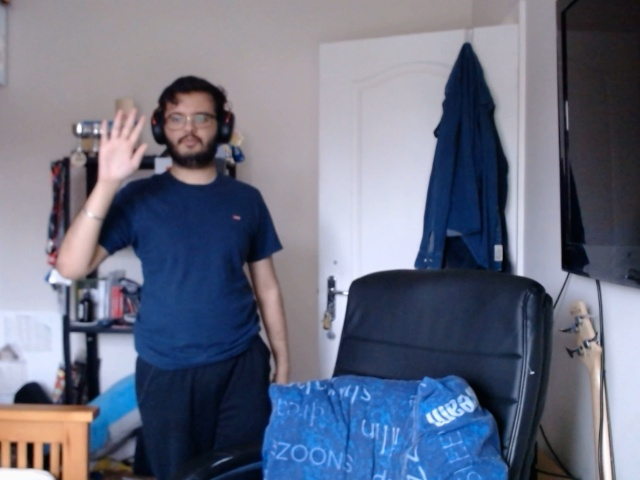Hello: (94, 104, 151, 185)
